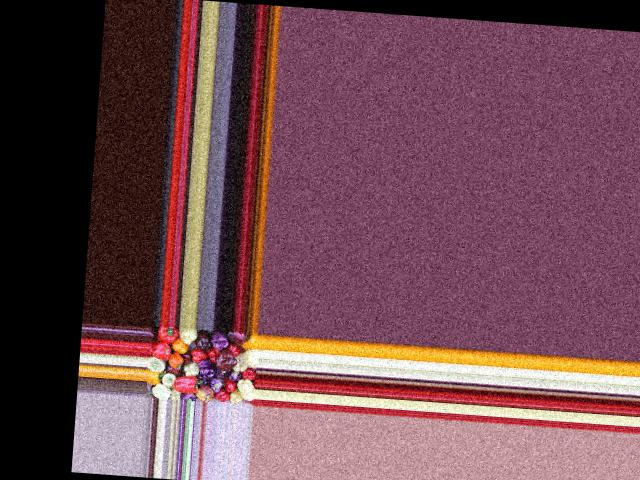bell_pepper: (147, 356, 167, 371)
